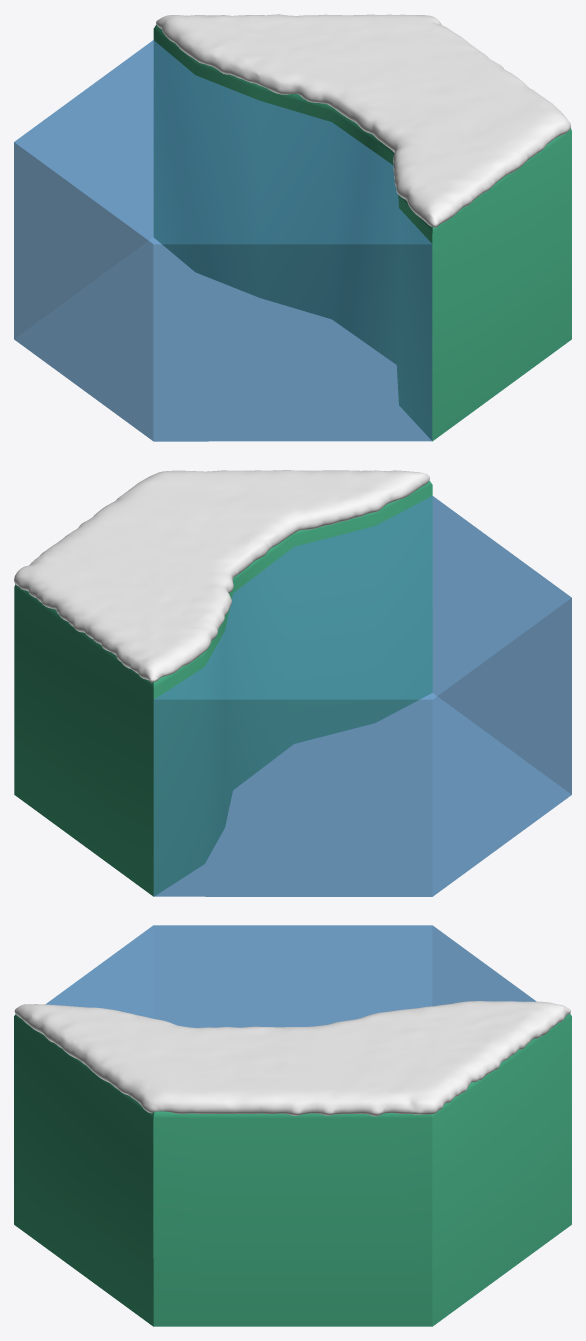
File: hex_forest_waterC.fbx
3 views of the same model, one above another, from view 1: azimuth 30°, elevation 25°; view 2: azimuth 150°, elevation 25°; view 3: azimuth 270°, elevation 25° (orthographic).
Parts seen in each view (by area): view 1: hex_forest_waterC, hex_forest_waterC.001, SnowBall.001; view 2: hex_forest_waterC, hex_forest_waterC.001, SnowBall.001; view 3: hex_forest_waterC.001, SnowBall.001, hex_forest_waterC.
Part boxes in pixels (<box>): hex_forest_waterC: <box>14,40,432,441</box>; hex_forest_waterC.001: <box>153,24,571,441</box>; SnowBall.001: <box>156,14,570,227</box>; hex_forest_waterC: <box>153,496,571,896</box>; hex_forest_waterC.001: <box>14,480,432,896</box>; SnowBall.001: <box>14,470,429,682</box>; hex_forest_waterC.001: <box>14,1013,571,1326</box>; SnowBall.001: <box>14,1001,570,1116</box>; hex_forest_waterC: <box>45,925,536,1027</box>.
Bounding box in the file's own units: 202 × 104 × 231.
